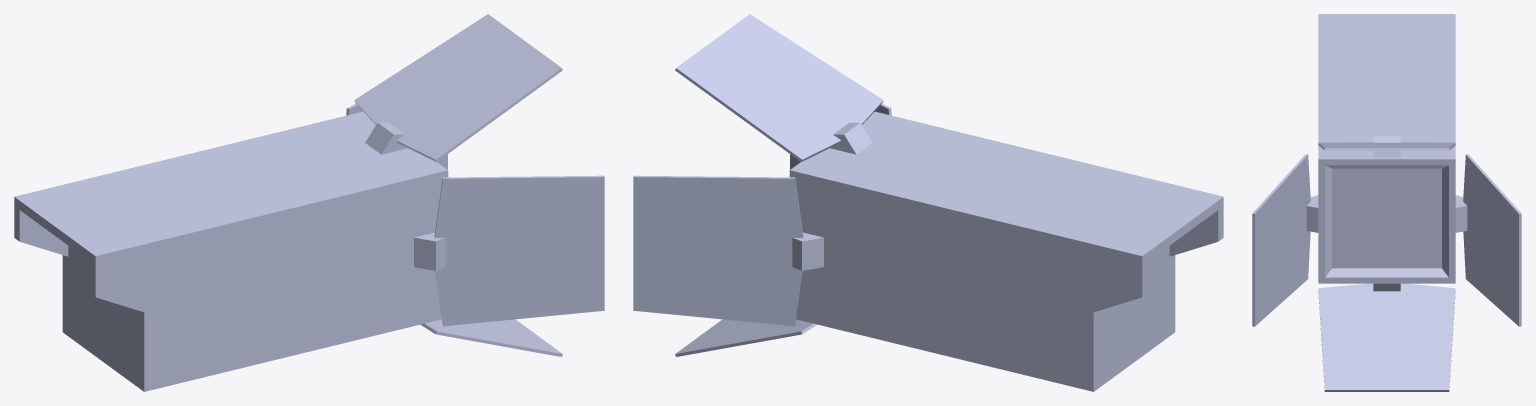
The model's file is Studio_Light.FBX.
3 views of the same model, side by side, from view 1: azimuth 30°, elevation 25°; view 2: azimuth 150°, elevation 25°; view 3: azimuth 270°, elevation 25° (orthographic). The views are drawn at different scales.
Visible parts, largest first — view 1: Cut-Extrude3; view 2: Cut-Extrude3; view 3: Cut-Extrude3.
Part boxes in pixels (<box>): Cut-Extrude3: <box>14,14,604,391</box>; Cut-Extrude3: <box>633,14,1223,391</box>; Cut-Extrude3: <box>1252,14,1521,391</box>.
Size of the model in its own units: 33.41 by 19.59 by 19.59.
